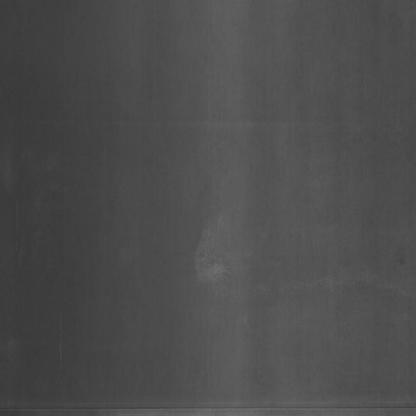welding_line: (2, 394, 415, 416)
